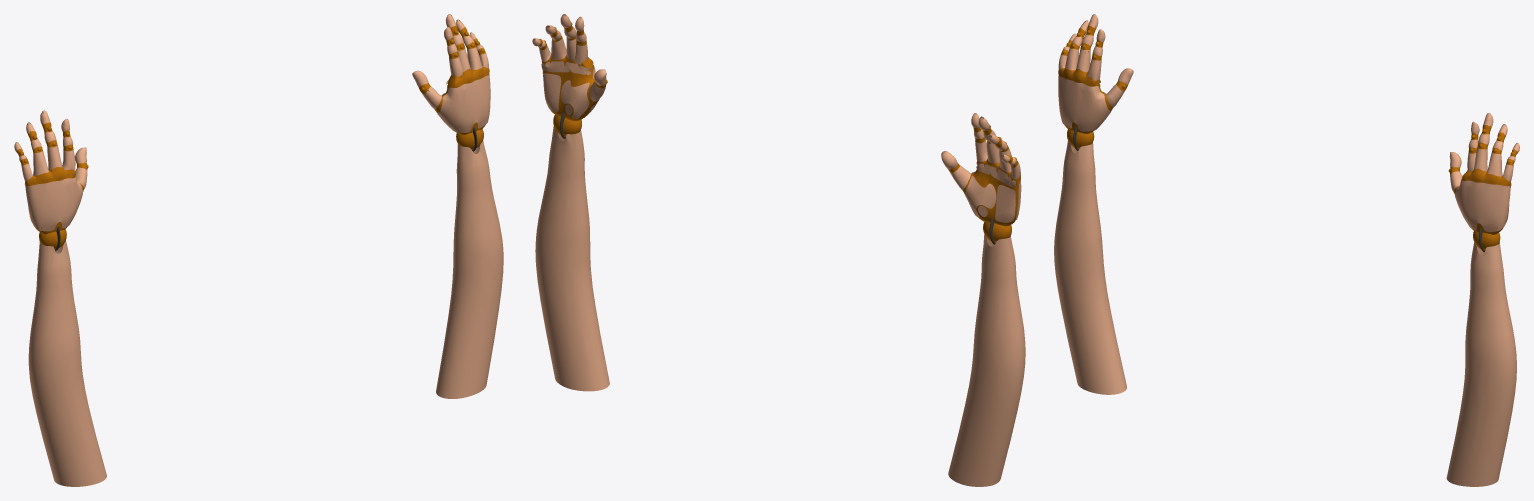
File: Animation Clap4.fbx
3 renders of one model, left to right at view 1: azimuth 30°, elevation 25°; view 2: azimuth 150°, elevation 25°; view 3: azimuth 330°, elevation 25°, orthographic. The views are drawn at different scales.
Visible parts, largest first — view 1: Cube.001, Cube.002; view 2: Cube.002, Cube.001; view 3: Cube.002, Cube.001.
Part boxes in pixels (left/top/right/bottom): Cube.001: left=14, top=110, right=106, bottom=486; Cube.002: left=412, top=14, right=503, bottom=398; Cube.002: left=532, top=14, right=609, bottom=391; Cube.001: left=941, top=113, right=1025, bottom=486; Cube.002: left=1446, top=113, right=1519, bottom=486; Cube.001: left=1054, top=14, right=1133, bottom=394.
Bounding box in the file's own units: 1676 × 1243 × 191.
